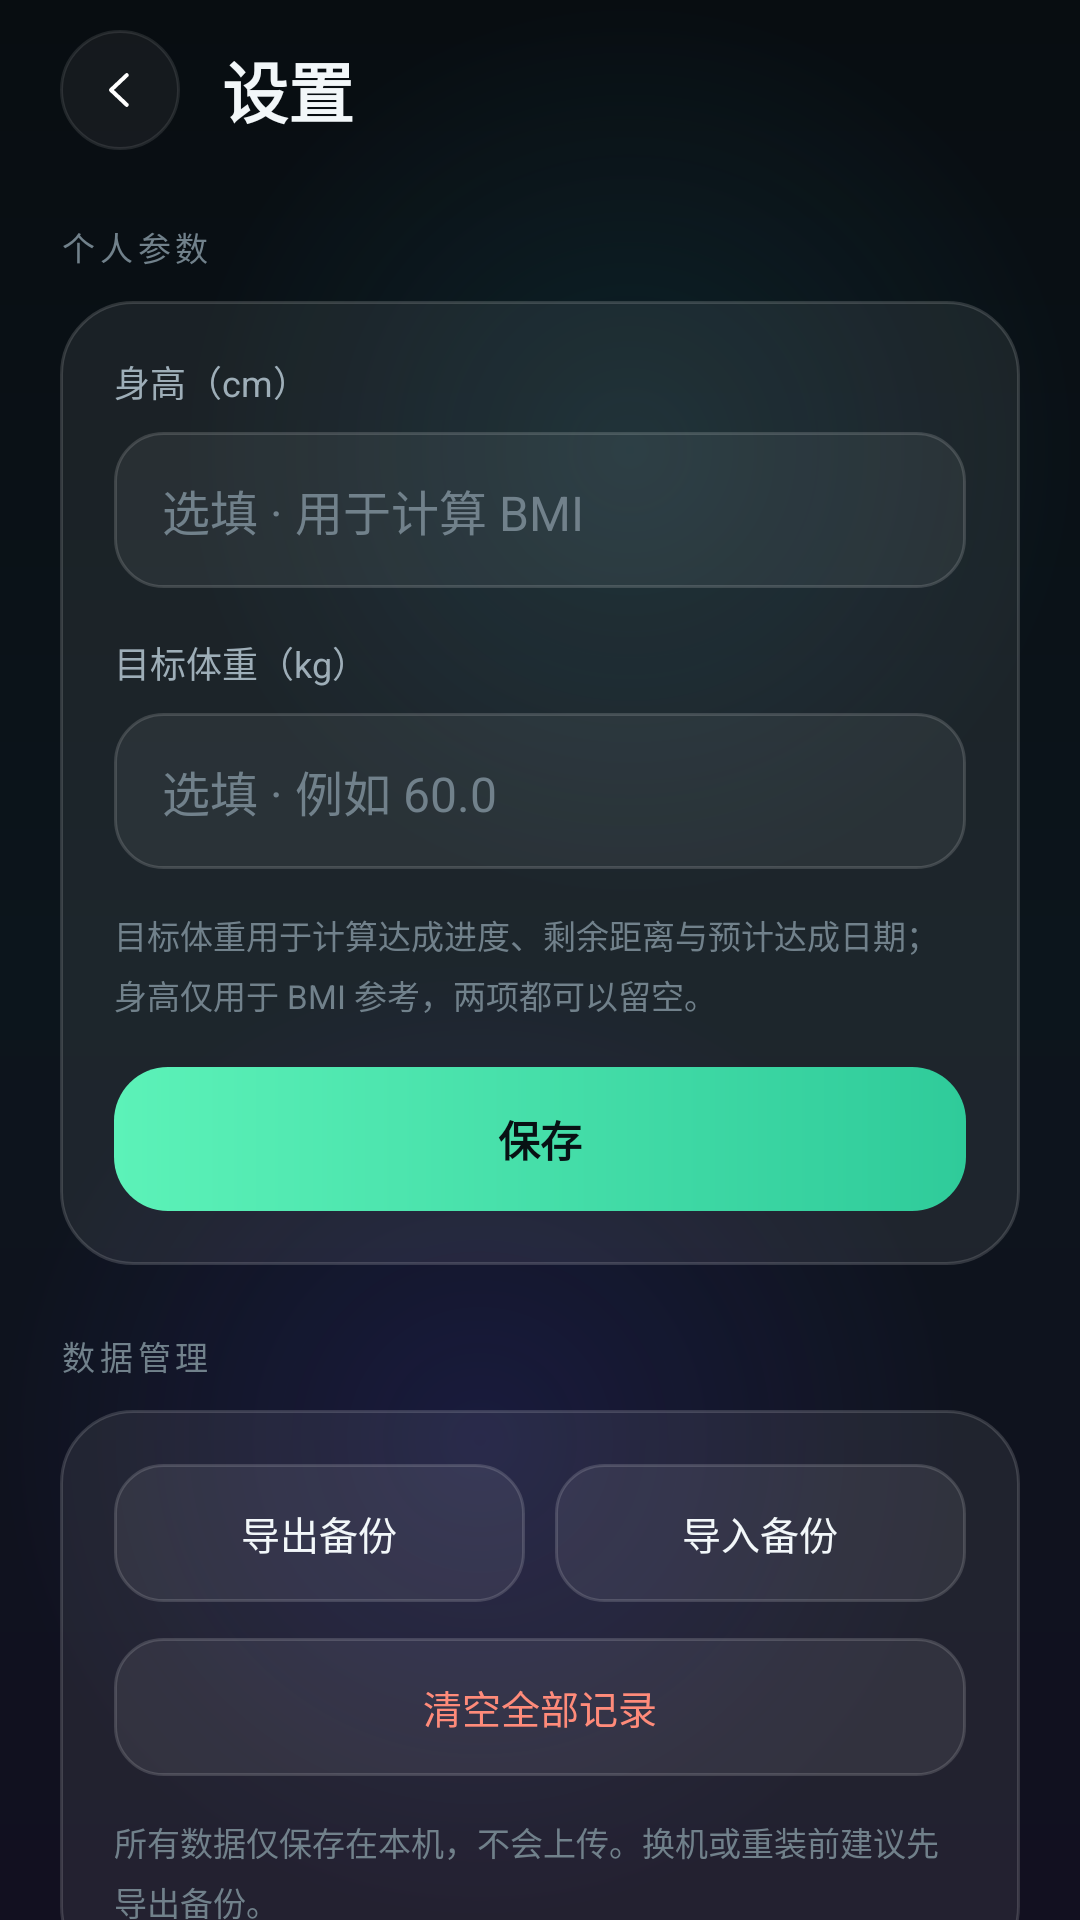

Point at icon controls on the screen. Image size 1080px x 1920px, points as (x=x, y=y).
返回: (x=119, y=90)
